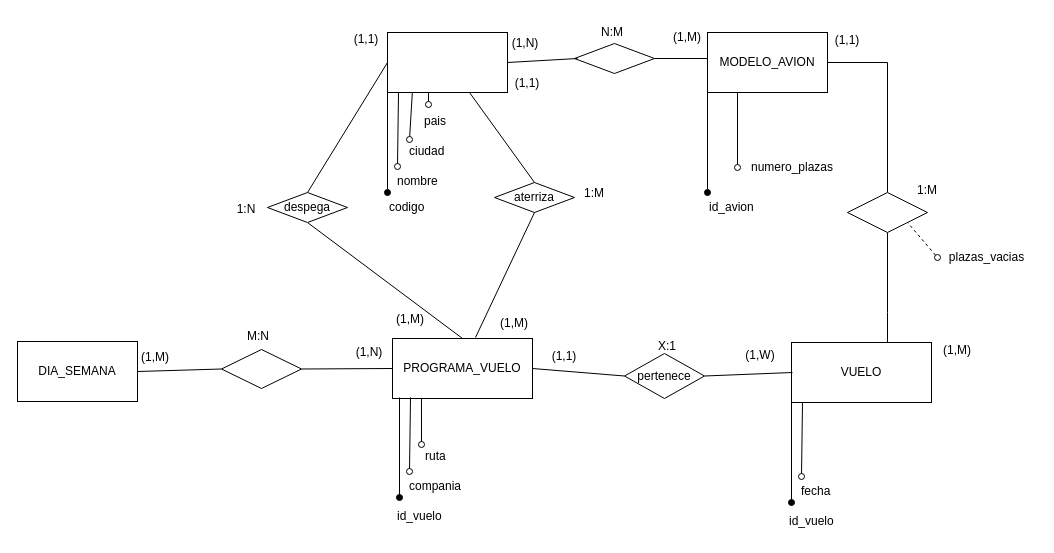
Image size: 1054x553. Some labels were removed from this diagram. Here are the shapes that lost their labels. From the top down, the box of each, then its label:
(386, 32, 508, 92): AEROPUERTO
(574, 42, 654, 74): tiene
(846, 192, 928, 232): pueder usar
(220, 348, 302, 388): vuela
